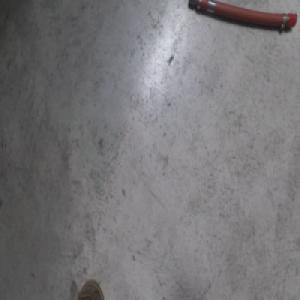Hose: (187, 0, 298, 34)
